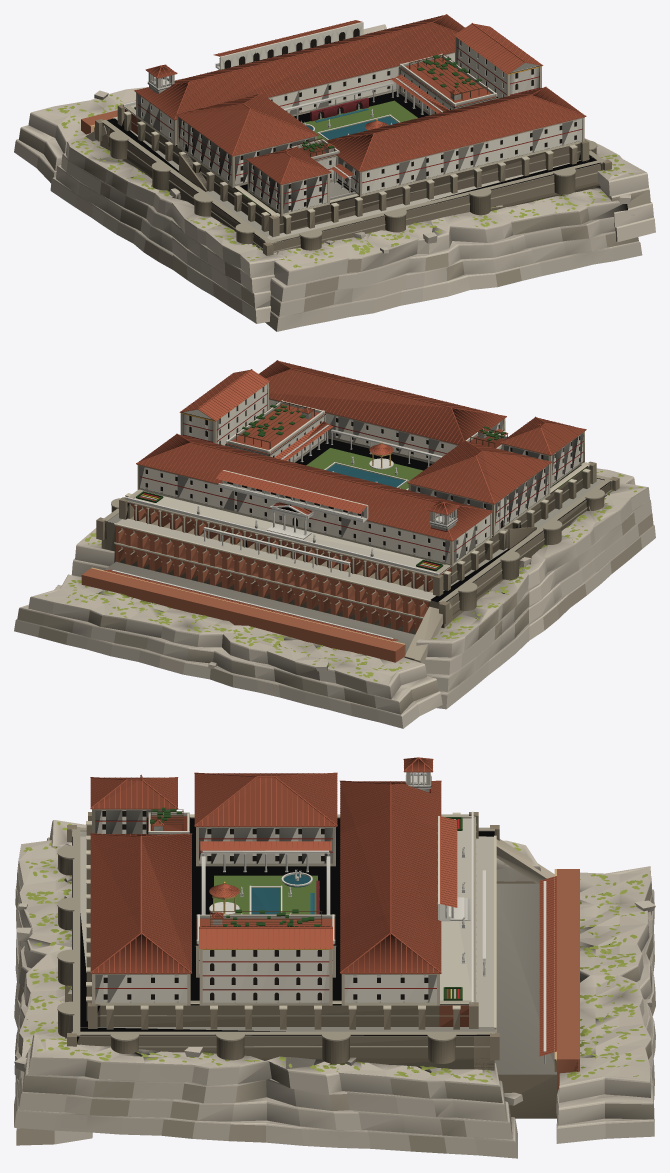
The model's file is rome_tiberiana.glb.
3 renders of one model, top to bottom at view 1: azimuth 30°, elevation 25°; view 2: azimuth 150°, elevation 25°; view 3: azimuth 270°, elevation 25°, orthographic. The views are drawn at different scales.
Visible parts, largest first — view 1: rome_tiberiana; view 2: rome_tiberiana; view 3: rome_tiberiana.
Part boxes in pixels (x1=…): rome_tiberiana: x1=14, y1=14, x2=655, y2=331; rome_tiberiana: x1=14, y1=360, x2=655, y2=728; rome_tiberiana: x1=14, y1=757, x2=655, y2=1158.
Bounding box in the file's own units: 165 × 62.39 × 185.
